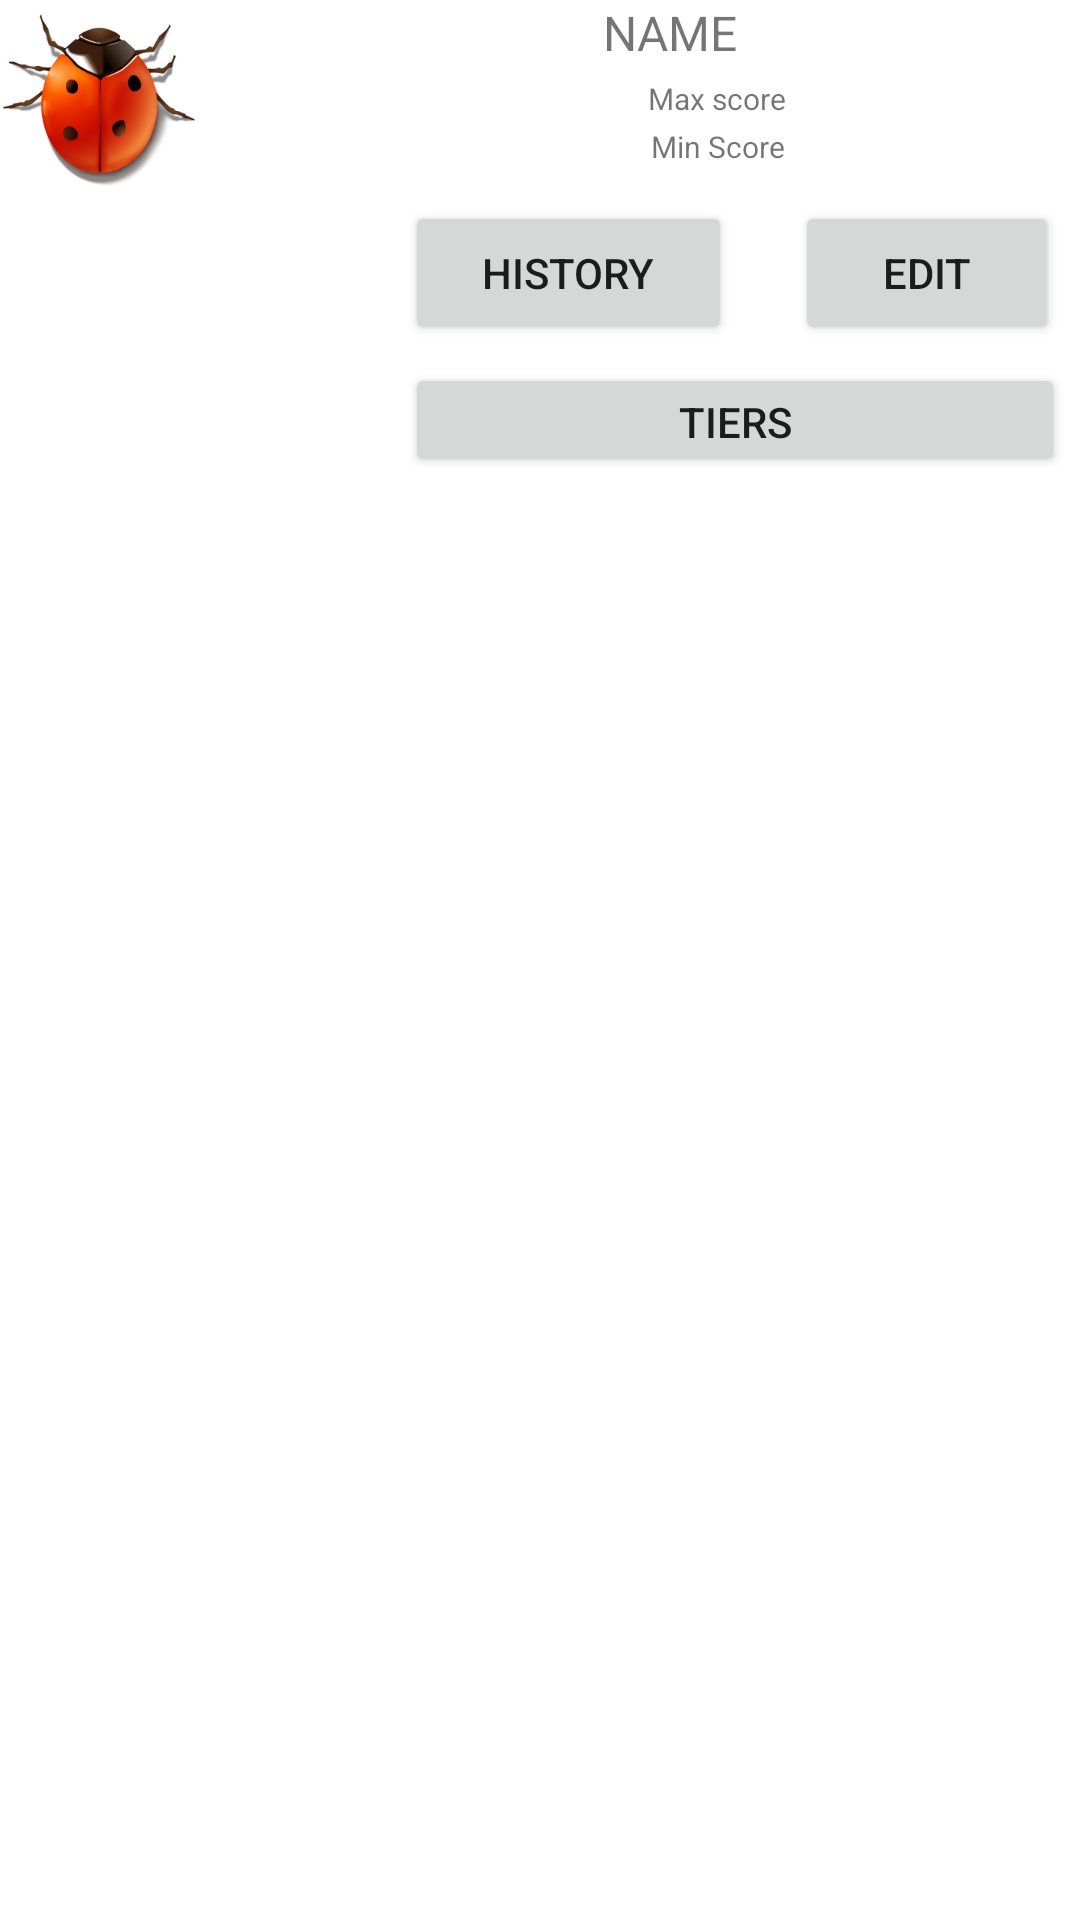

Icon click points for this 1080x1920 phone screenshot, format point (x, y):
bug: point (99, 99)
